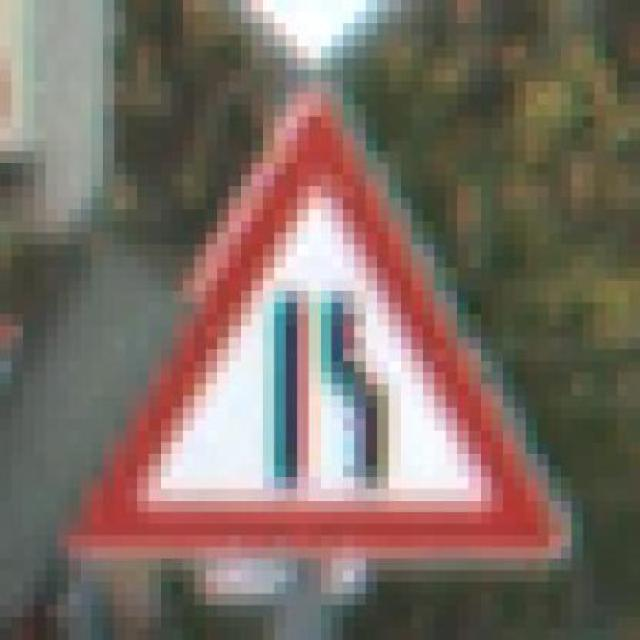-Road narrows on right: (66, 60, 580, 572)
